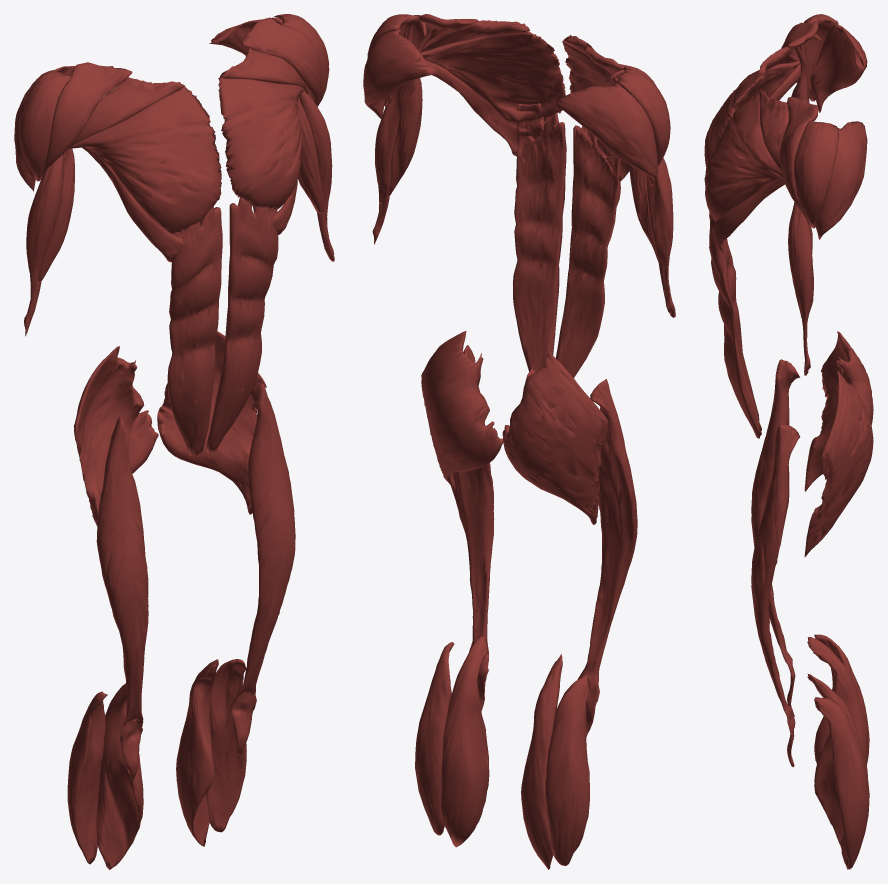
Rendered from muscle.glb.
The picture shows the model from 3 angles, left to right: view 1: azimuth 30°, elevation 25°; view 2: azimuth 150°, elevation 25°; view 3: azimuth 270°, elevation 25°; orthographic projection. The views are drawn at different scales.
Visible parts, largest first — view 1: pectoralis_r, pectoralis_l, rectus_femoris_r, rectus_abdominis_r, rectus_femoris_l, gastrocnemius_r, gastrocnemius_l, rectus_abdominis_l, deltoid_r, gluteus_r, deltoid_l, gluteus_l (+2 smaller); view 2: rectus_abdominis_l, pectoralis_l, gastrocnemius_l, gluteus_r, gastrocnemius_r, rectus_abdominis_r, rectus_femoris_r, deltoid_r, gluteus_l, deltoid_l, rectus_femoris_l, biceps_l (+2 smaller); view 3: deltoid_l, pectoralis_l, gastrocnemius_l, gluteus_l, rectus_femoris_l, deltoid_r, rectus_femoris_r, gluteus_r, pectoralis_r, gastrocnemius_r, rectus_abdominis_l, biceps_l (+2 smaller).
Part boxes in pixels (x1,y1,x2,y2): pectoralis_r: (68, 77, 221, 262); pectoralis_l: (218, 48, 309, 235); rectus_femoris_r: (96, 416, 148, 780); rectus_abdominis_r: (167, 206, 222, 456); rectus_femoris_l: (230, 382, 295, 754); gastrocnemius_r: (67, 683, 143, 869); gastrocnemius_l: (176, 659, 246, 846); rectus_abdominis_l: (206, 197, 278, 452); deltoid_r: (14, 62, 132, 191); gluteus_r: (73, 346, 158, 527); deltoid_l: (209, 14, 329, 106); gluteus_l: (157, 331, 266, 514); rectus_abdominis_l: (513, 103, 566, 372); pectoralis_l: (421, 20, 565, 156); gastrocnemius_l: (415, 635, 489, 847); gluteus_r: (502, 351, 609, 524); gastrocnemius_r: (521, 654, 589, 869); rectus_abdominis_r: (556, 125, 620, 377); rectus_femoris_r: (577, 379, 637, 736); deltoid_r: (553, 46, 670, 186); gluteus_l: (421, 331, 503, 490); deltoid_l: (363, 14, 478, 120); rectus_femoris_l: (450, 345, 494, 711); biceps_l: (372, 19, 438, 244); deltoid_l: (779, 97, 867, 239); pectoralis_l: (704, 89, 788, 251); gastrocnemius_l: (807, 674, 869, 869); gluteus_l: (804, 370, 873, 556); rectus_femoris_l: (751, 424, 799, 767); deltoid_r: (781, 14, 867, 112); rectus_femoris_r: (751, 359, 800, 716); gluteus_r: (804, 331, 873, 491); pectoralis_r: (704, 47, 801, 166); gastrocnemius_r: (807, 634, 869, 765); rectus_abdominis_l: (709, 215, 761, 438); biceps_l: (788, 202, 813, 375).
Bounding box in the file's own units: 0.475 × 1.22 × 0.2382.
